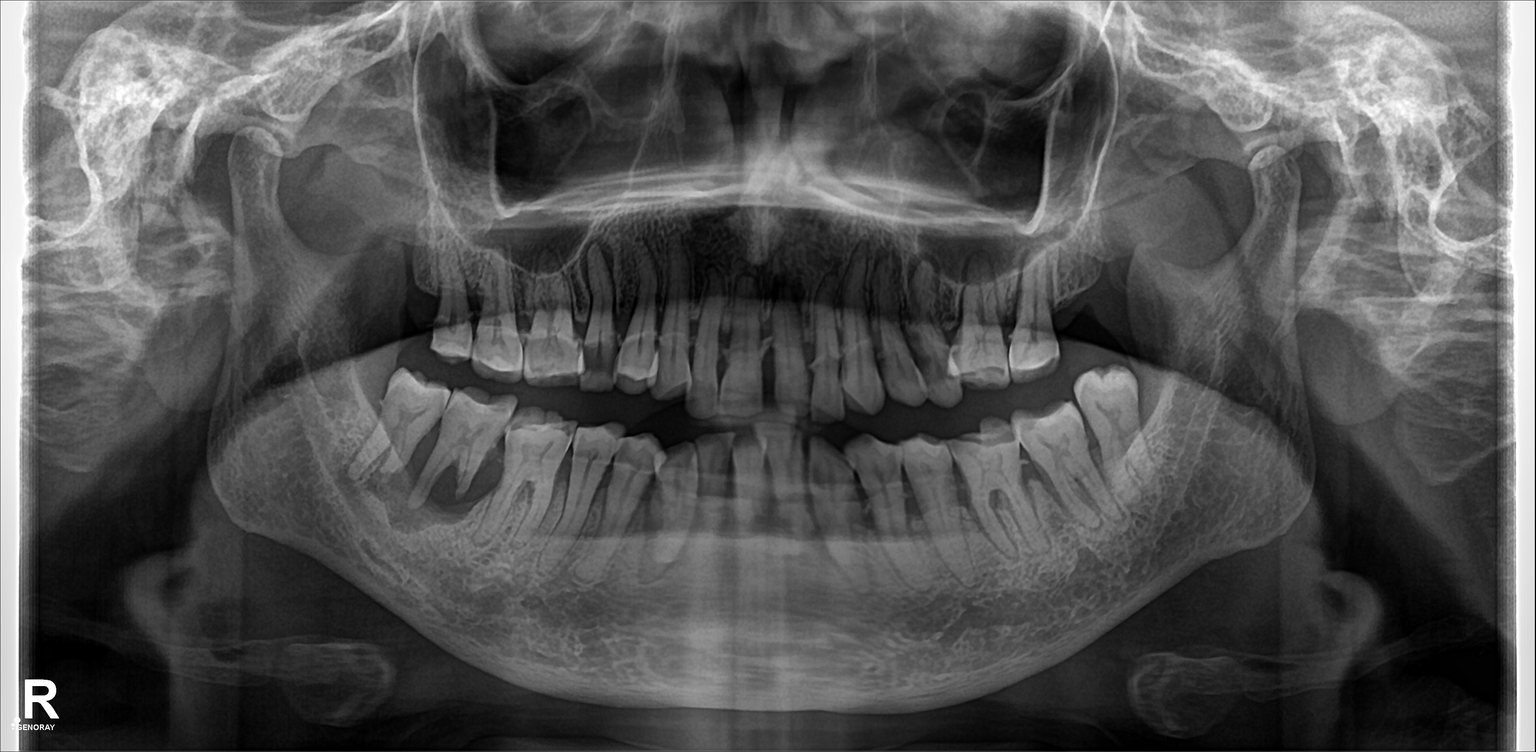Dental Caries: (521, 339, 574, 371), (581, 335, 617, 375)
Missing Tooth: (1048, 253, 1107, 352), (1133, 350, 1192, 441), (397, 264, 439, 358)
Periapical Lesion: (399, 439, 502, 520)
